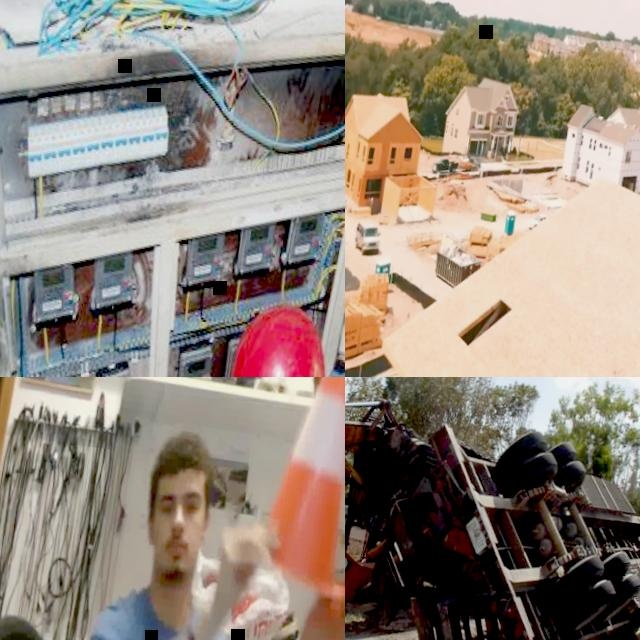Hardhat: (214, 298, 343, 377)
NO-Hardhat: (151, 430, 215, 488)
NO-Mask: (148, 532, 198, 584)
NO-Safety Vest: (100, 588, 229, 640)
Person: (76, 420, 345, 640), (145, 289, 345, 377)
Safety Cone: (241, 377, 345, 619)
machinery: (345, 379, 640, 640)
vehicle: (351, 218, 382, 260), (430, 156, 458, 178)
